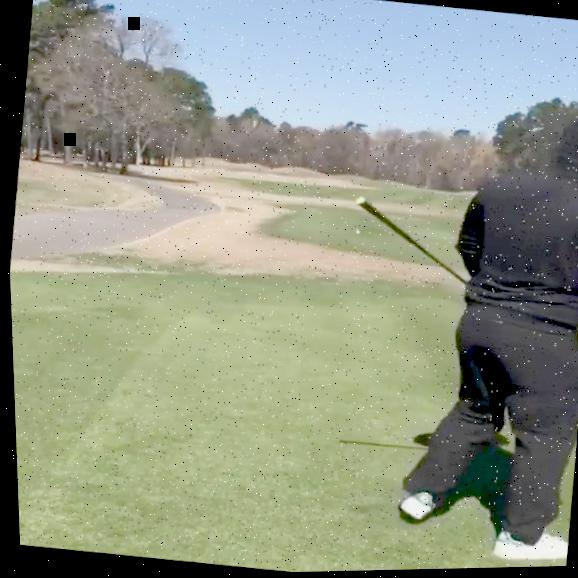GolfBall: (353, 231, 359, 236)
